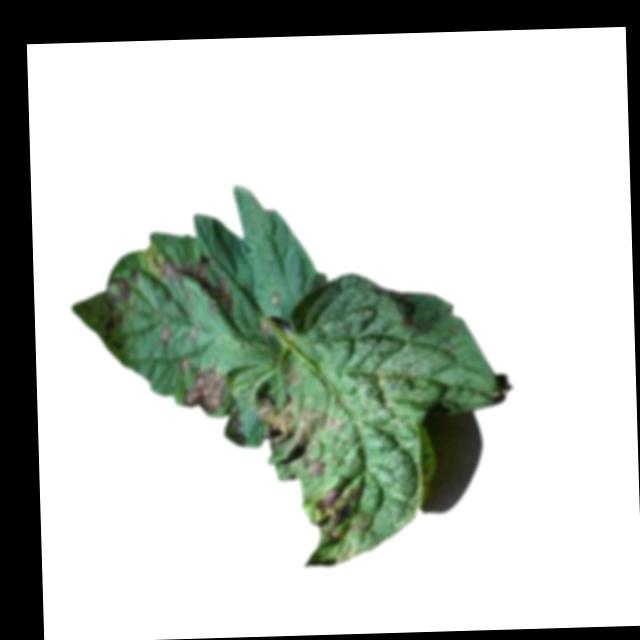Early_blight: (254, 392, 346, 464), (150, 249, 236, 321), (316, 486, 360, 550), (182, 368, 230, 419), (115, 269, 141, 305), (156, 323, 174, 347), (310, 459, 326, 478)
